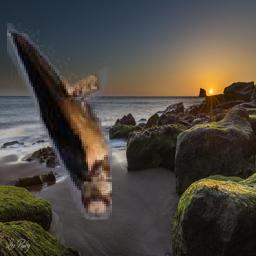Swallow: (8, 24, 113, 221)
